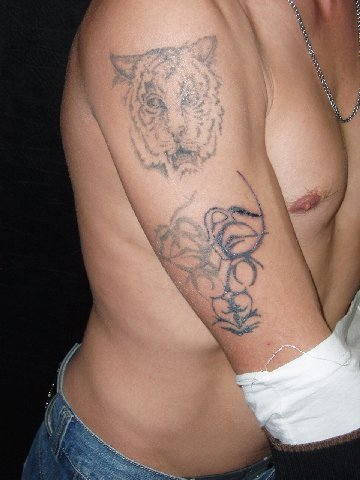tatu5_tigr: (105, 33, 227, 181)
